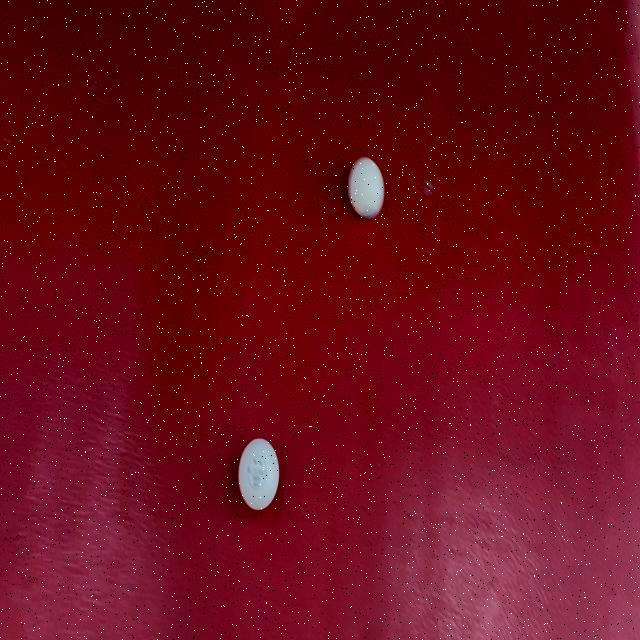ping-pong-ball: (235, 435, 282, 514), (345, 153, 386, 223)
